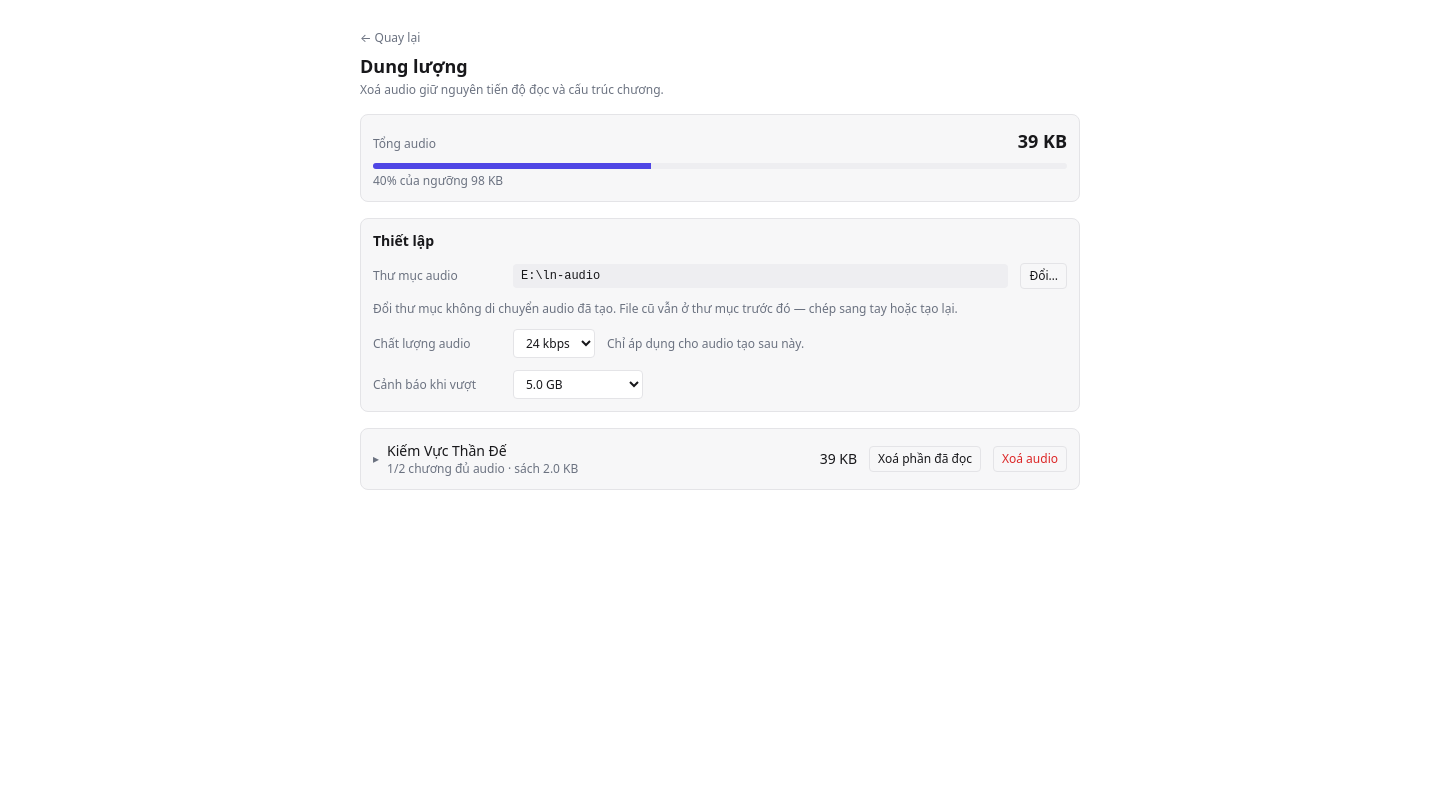
Scenario: cửa xác nhận xoá › bấm xoá sách KHÔNG xoá ngay — phải qua hộp xác nhận
Click the button with test id "storage-delete-book-book-1". click: (1030, 459)
box: [993,446,1067,472]
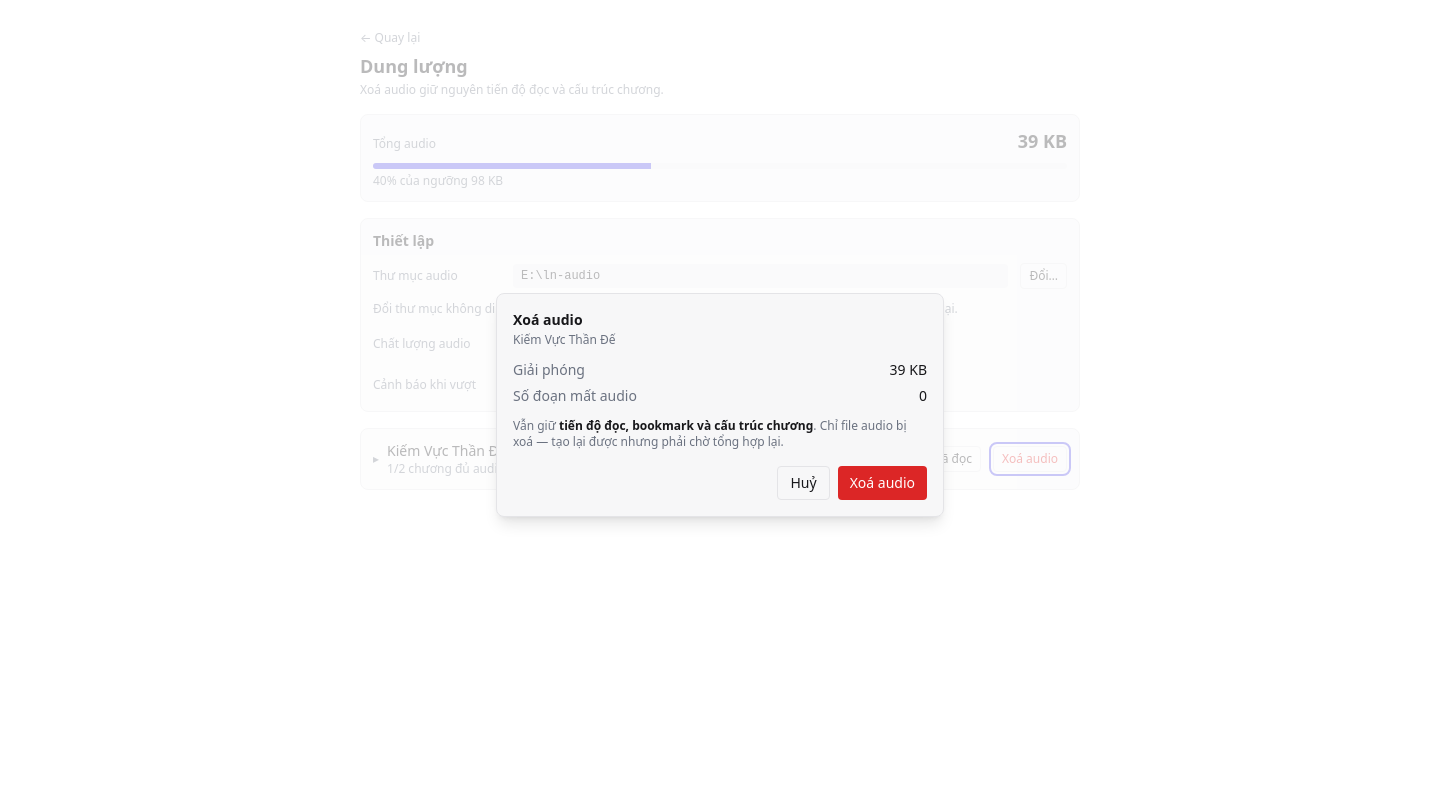
Now the dialog with test id "delete-audio-dialog" is shown
